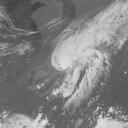cyclone: (51, 36, 105, 77)
